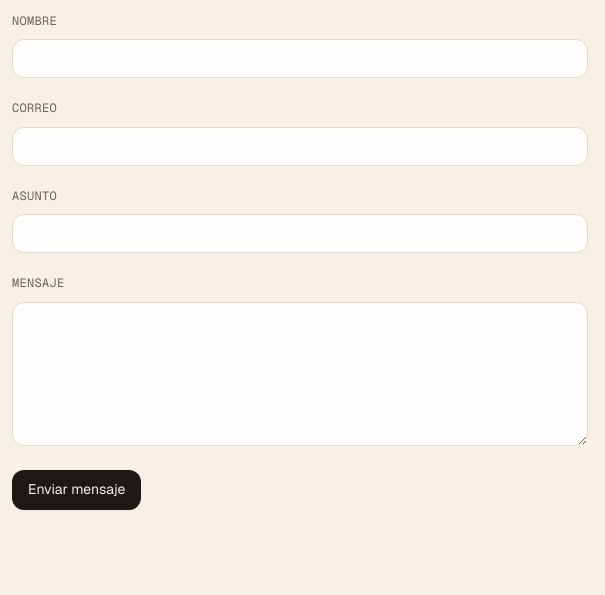
Test case: ContactForm › shows validation errors and does not submit an empty form
The width and height of the screenshot is (605, 595).
Click the button "Enviar mensaje".
click(77, 490)  # box [12, 470, 142, 510]
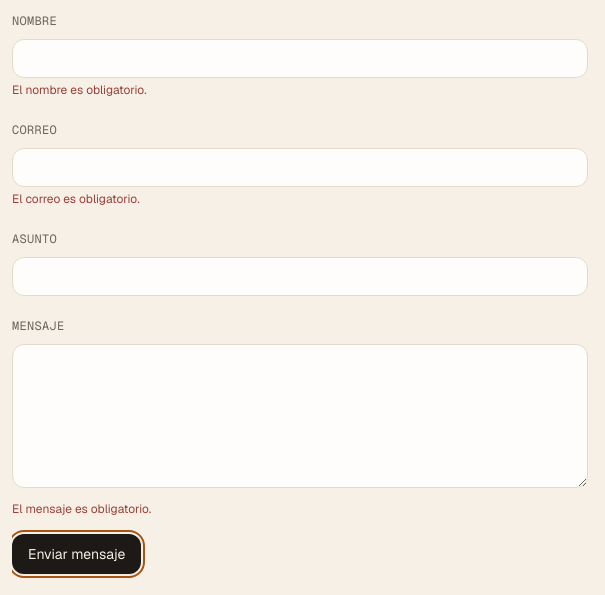
Check: the text "El nombre es obligatorio." is shown, box [12, 82, 147, 98]
Check: the text "El correo es obligatorio." is shown, box [12, 191, 140, 207]
Check: the text "El mensaje es obligatorio." is shown, box [12, 501, 151, 517]
